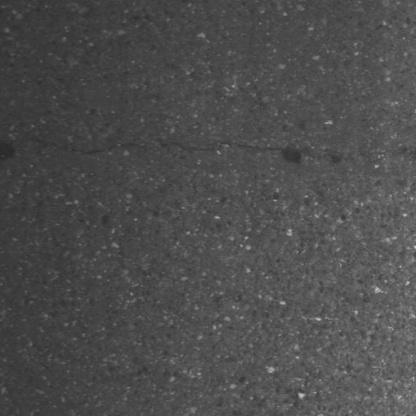Cracks: (0, 131, 150, 162), (157, 137, 291, 158)
